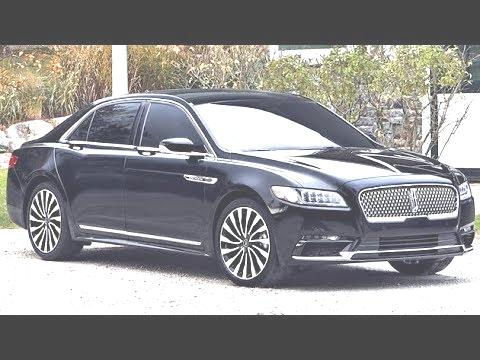lincoln: (408, 185, 421, 211)
